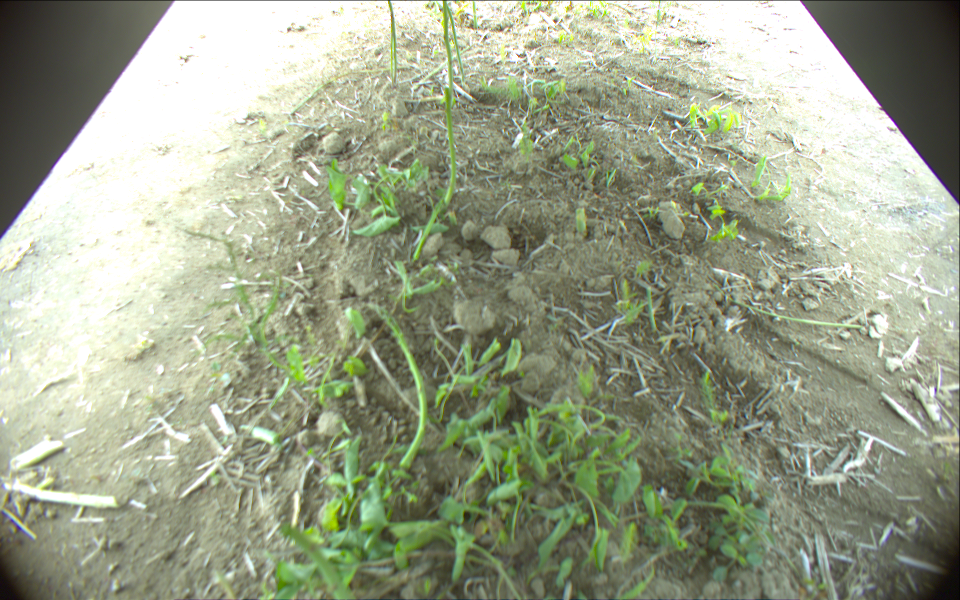aspa: (367, 301, 426, 468), (412, 87, 458, 259), (444, 1, 469, 88), (441, 1, 457, 88), (386, 1, 398, 80), (573, 202, 588, 234), (471, 1, 481, 32)
